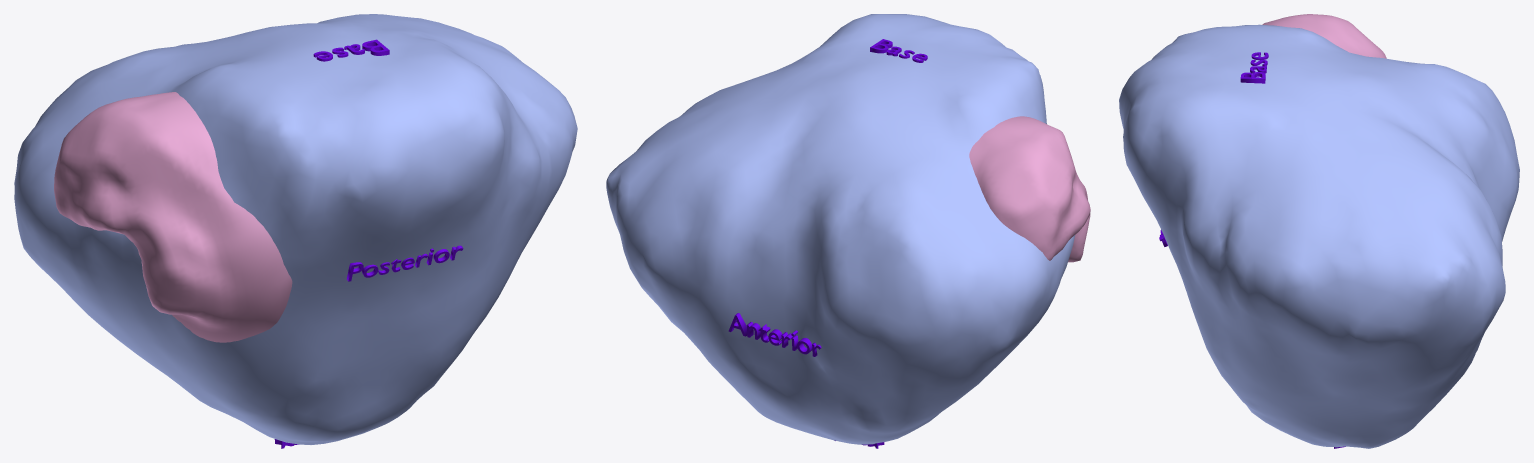
File: labelled_Oct10v2.glb
3 renders of one model, left to right at view 1: azimuth 30°, elevation 25°; view 2: azimuth 150°, elevation 25°; view 3: azimuth 270°, elevation 25°, orthographic. The views are drawn at different scales.
Visible parts, largest first — view 1: ProstateMRIPPMF17smoothed2Fixed, TumourSUV4, Posterior, Base; view 2: ProstateMRIPPMF17smoothed2Fixed, TumourSUV4, Anterior, Base; view 3: ProstateMRIPPMF17smoothed2Fixed, TumourSUV4, Base.
Boxes of the visible parts, x1,y1,x2,y2 form: ProstateMRIPPMF17smoothed2Fixed: (14, 14, 577, 444); TumourSUV4: (54, 92, 292, 342); Posterior: (346, 245, 463, 281); Base: (313, 39, 389, 61); ProstateMRIPPMF17smoothed2Fixed: (606, 14, 1074, 444); TumourSUV4: (969, 116, 1090, 262); Anterior: (728, 313, 821, 356); Base: (870, 39, 927, 62); ProstateMRIPPMF17smoothed2Fixed: (1119, 24, 1519, 448); TumourSUV4: (1262, 14, 1386, 58); Base: (1240, 52, 1268, 83).
Size of the model in its own units: 7.69 by 6.38 by 6.26.
